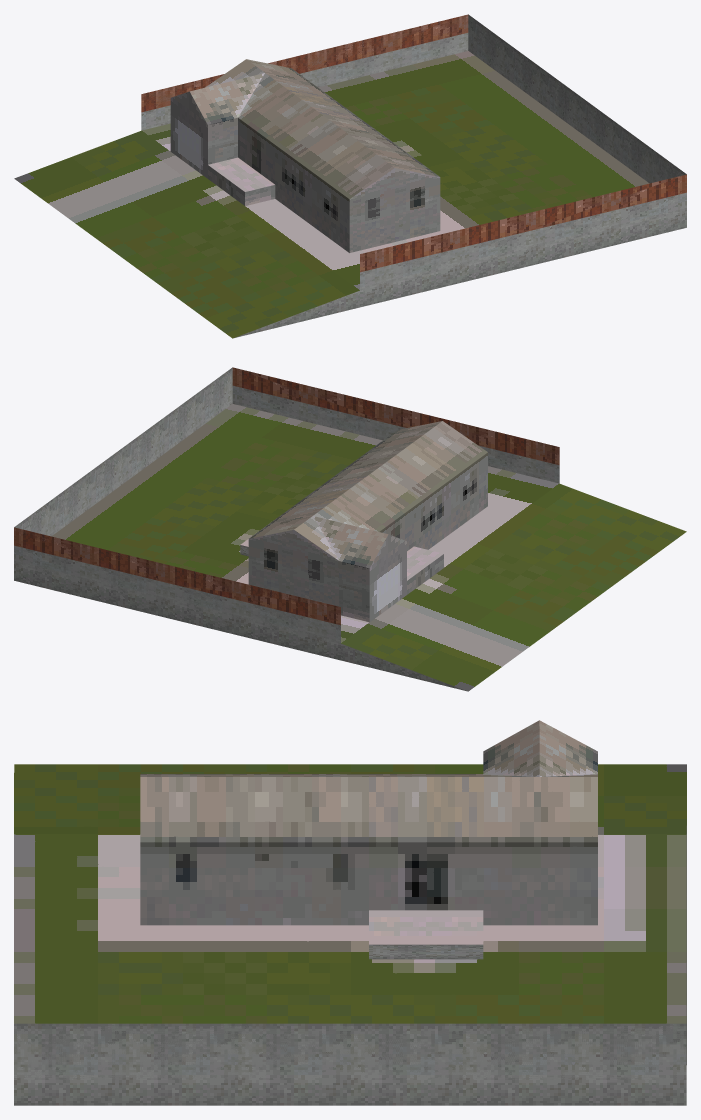
The model's file is lodswburbhaus02.obj.
The picture shows the model from 3 angles, top to bottom: view 1: azimuth 30°, elevation 25°; view 2: azimuth 150°, elevation 25°; view 3: azimuth 270°, elevation 25°; orthographic projection. The views are drawn at different scales.
Visible parts, largest first — view 1: LODswburbhaus02; view 2: LODswburbhaus02; view 3: LODswburbhaus02.
Boxes of the visible parts, x1,y1,x2,y2 form: LODswburbhaus02: [14, 14, 686, 338]; LODswburbhaus02: [14, 367, 686, 691]; LODswburbhaus02: [14, 720, 686, 1105].
Size of the model in its own units: 30 by 5.74 by 25.
3 materials, 3 textured.
